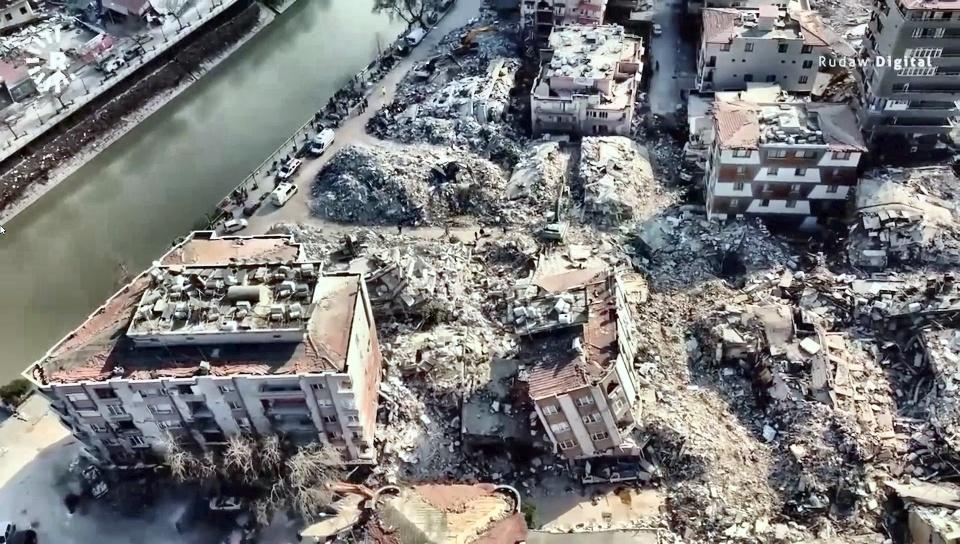kapali: (648, 86, 702, 483), (627, 479, 959, 533)
